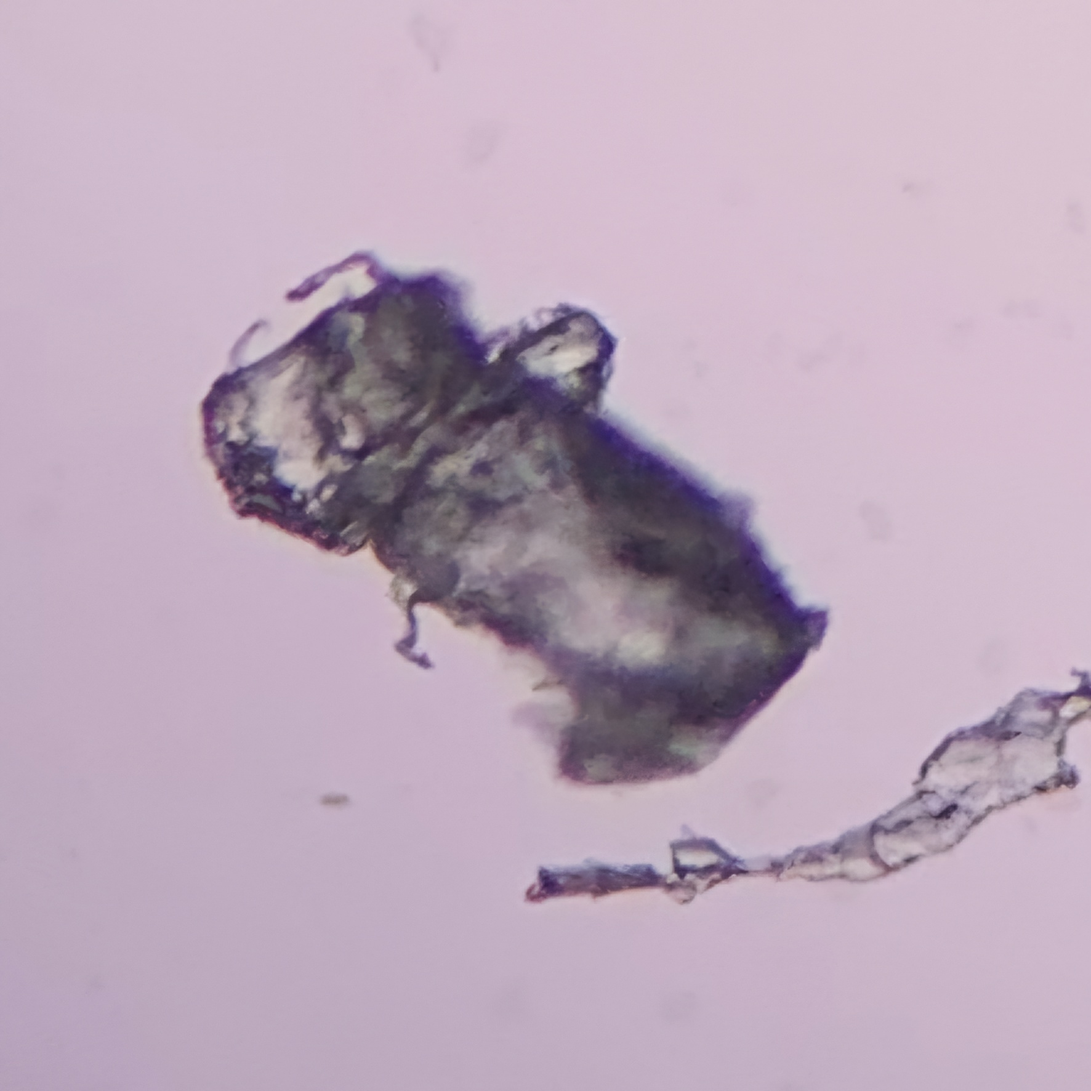microplastic: (187, 227, 840, 807)
